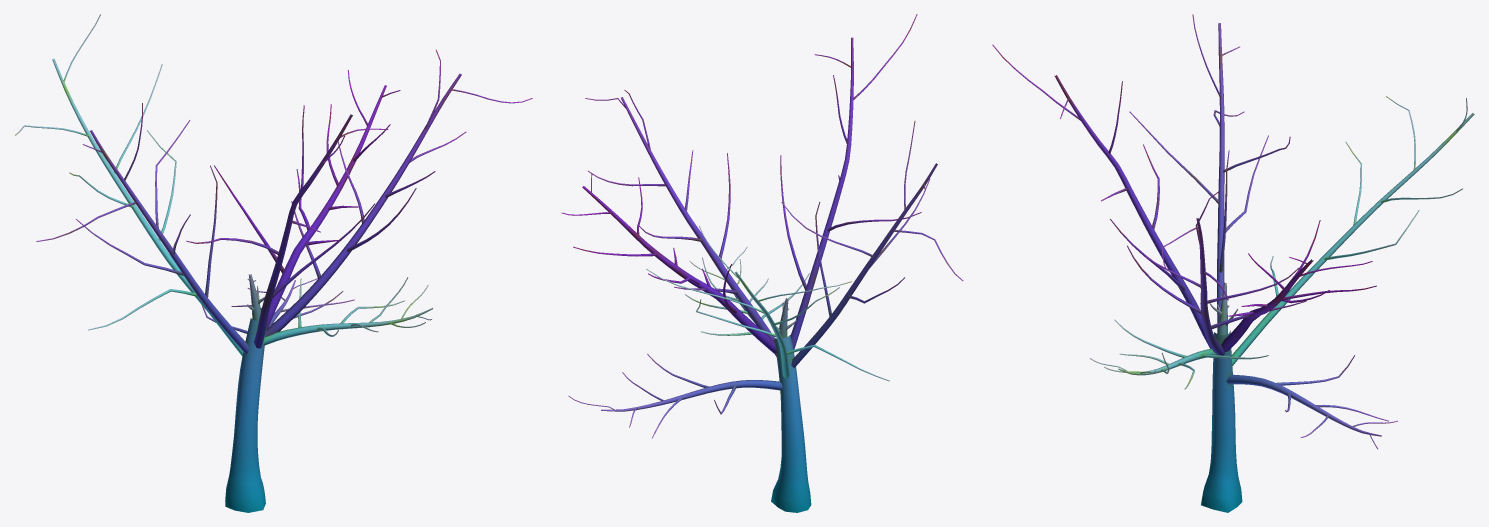
Rendered from maple-grove-b.glb.
The picture shows the model from 3 angles, left to right: view 1: azimuth 30°, elevation 25°; view 2: azimuth 150°, elevation 25°; view 3: azimuth 270°, elevation 25°; orthographic projection. The views are drawn at different scales.
Parts seen in each view (by area): view 1: bark; view 2: bark; view 3: bark.
Boxes of the visible parts, x1,y1,x2,y2 form: bark: [15, 14, 532, 512]; bark: [561, 14, 963, 512]; bark: [992, 14, 1474, 512].
Bounding box in the file's own units: 14.06 × 13.51 × 13.15.
